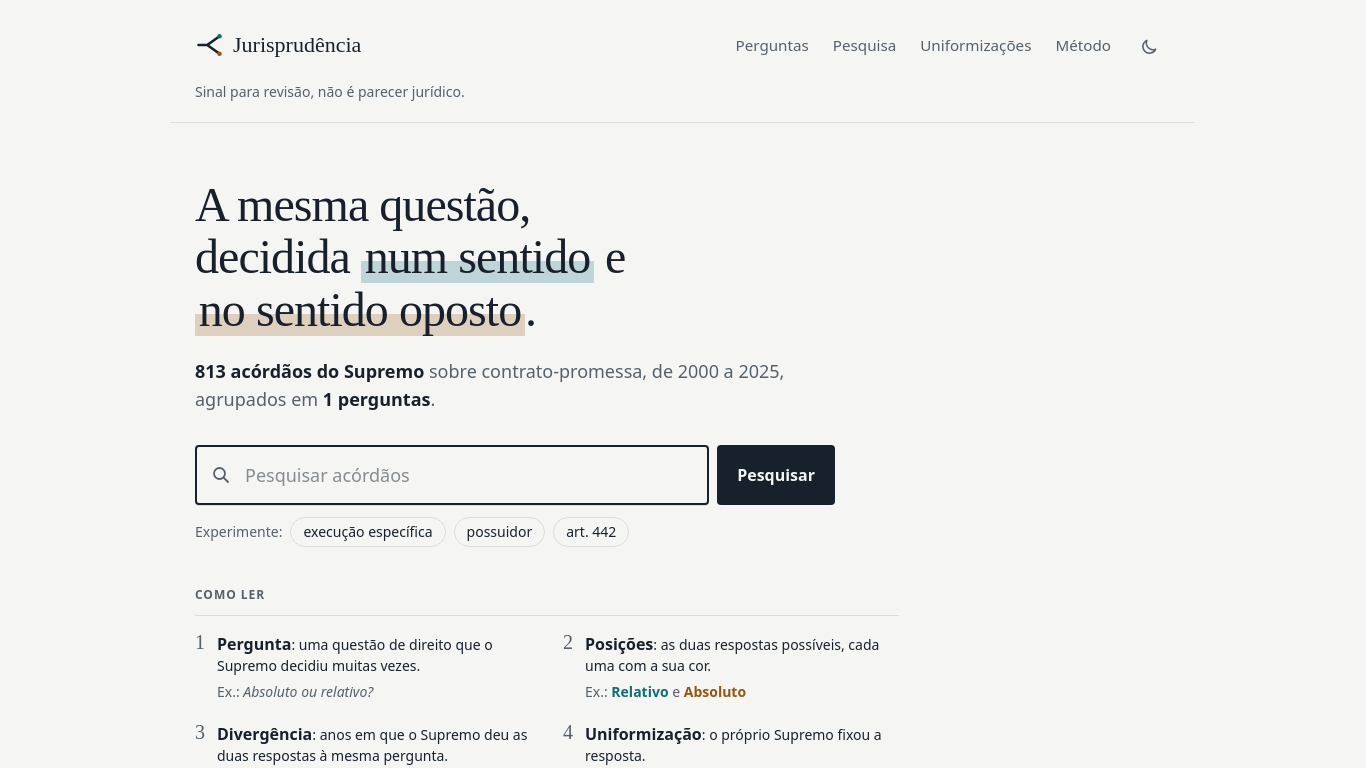
Scenario: search page › opens the home page with one large search box and example queries
Expected: the number of forms is 1, x1=195 y1=445 x2=835 y2=505
Type "possuidor" into the search field named "Pesquisar nas perguntas e nos acórdãos" at (452,475), box x1=195 y1=445 x2=709 y2=505
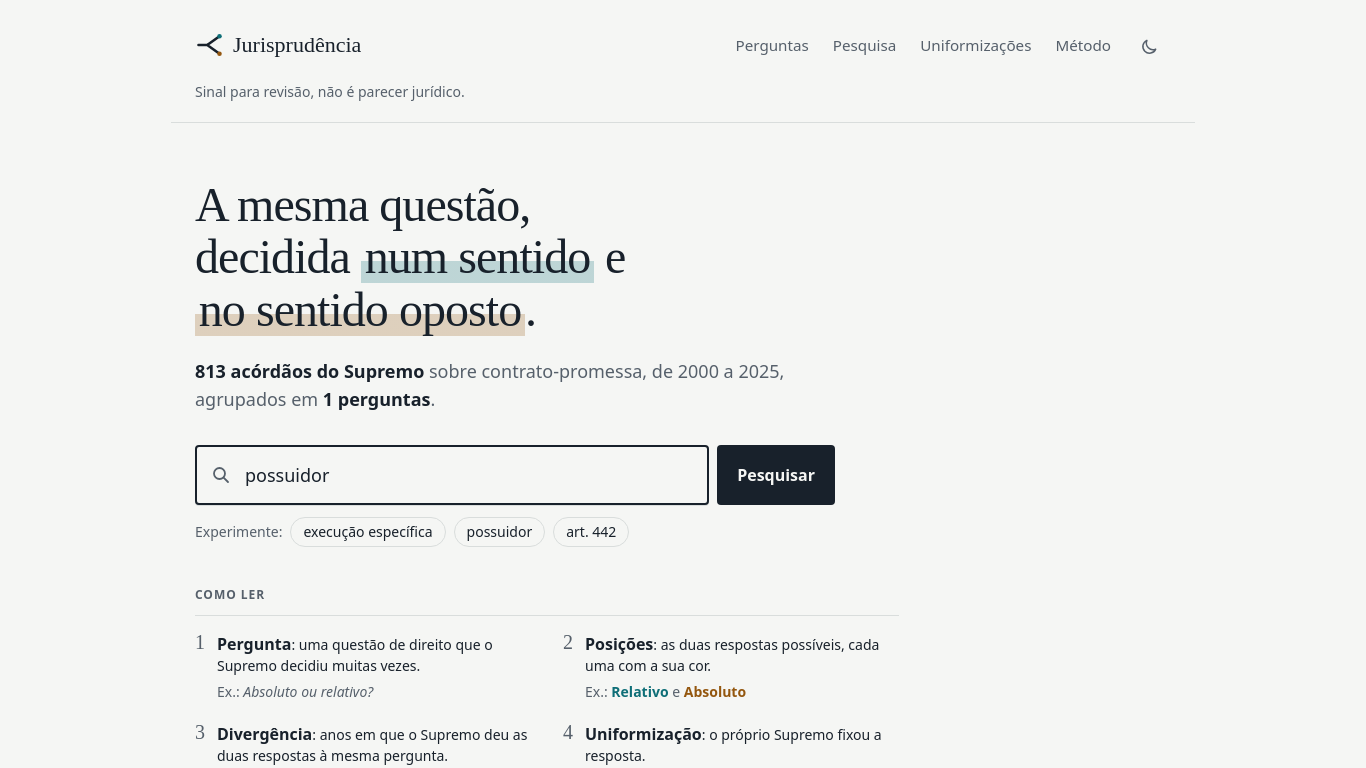
Submit the form, box x1=195 y1=445 x2=835 y2=505
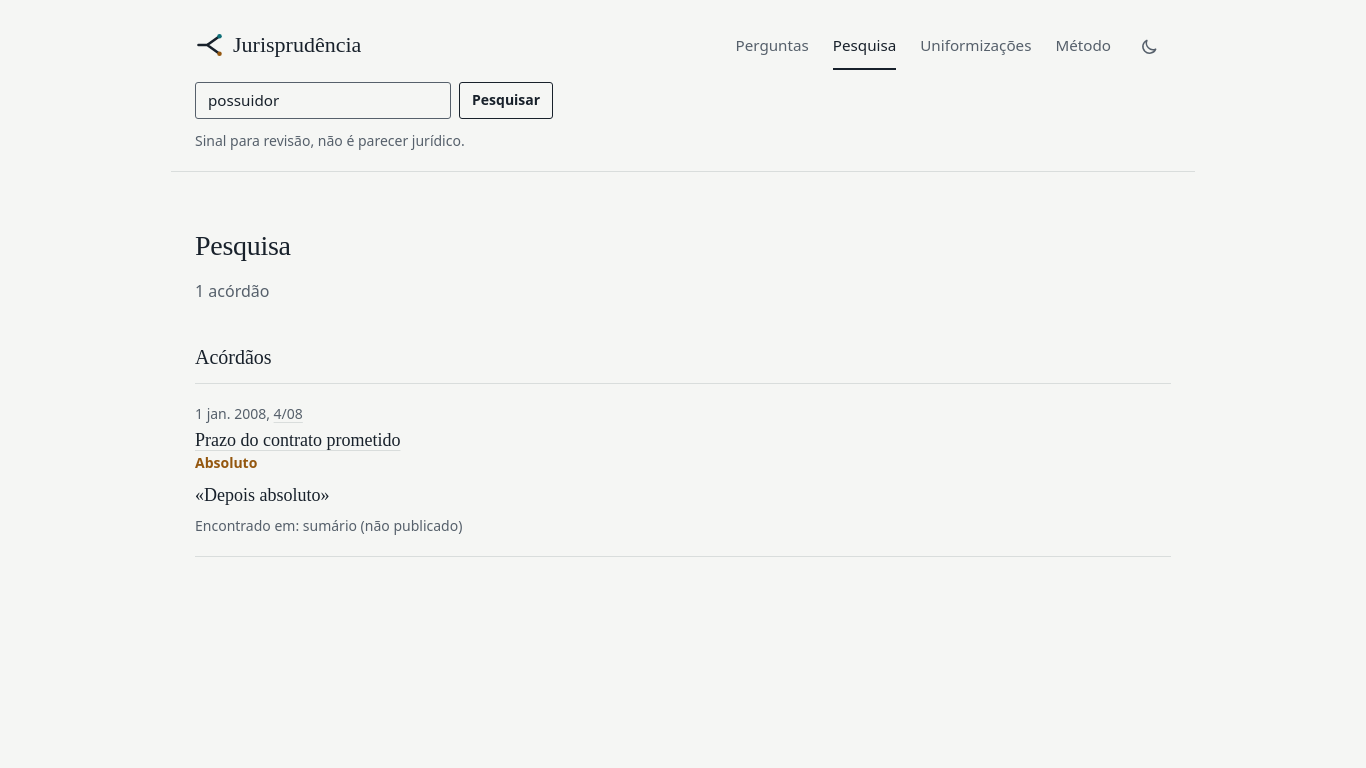
Expected: the message "1 acórdão" is shown, x1=195 y1=280 x2=269 y2=302
